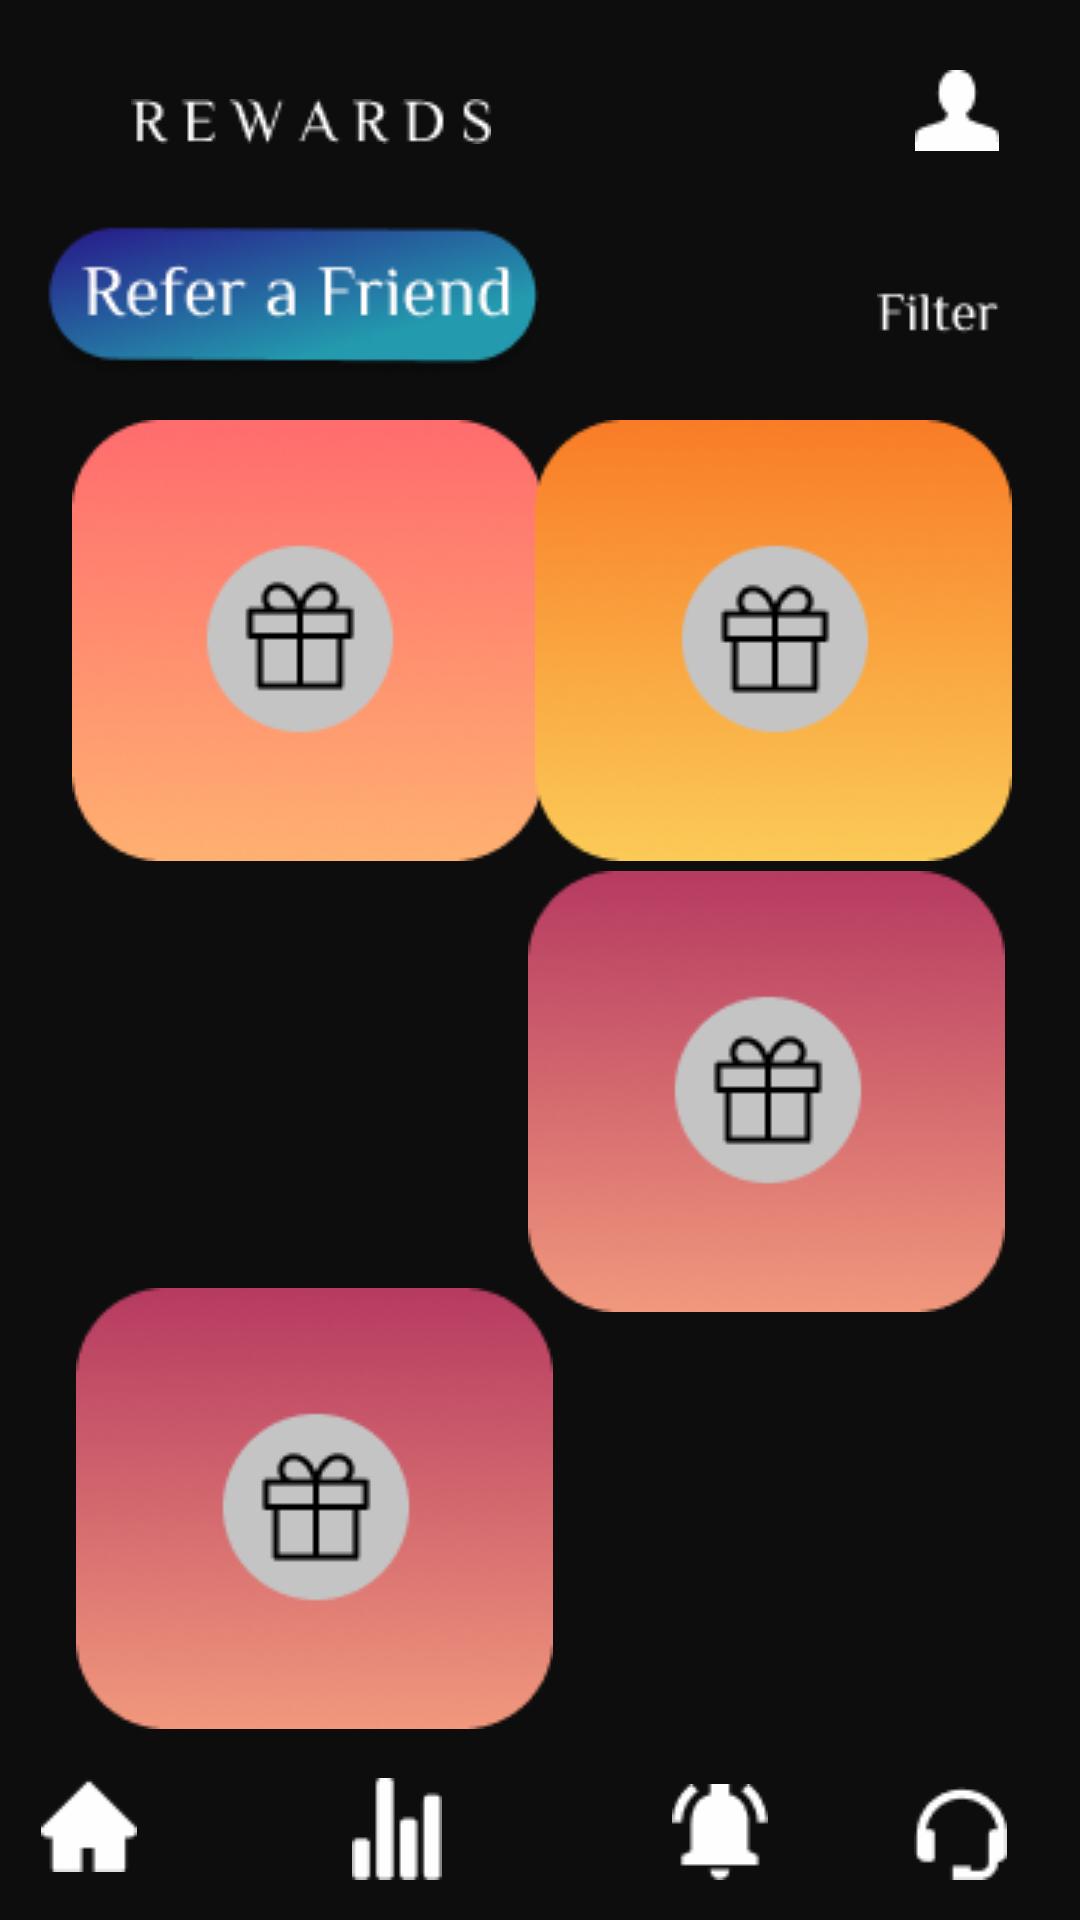

Icons on this 1080 × 1920 Android screen, each with the point to tap as [x,y]:
home: [89,1826]
notification: [720,1832]
profile: [957,110]
stats: [397,1829]
support: [960,1833]
